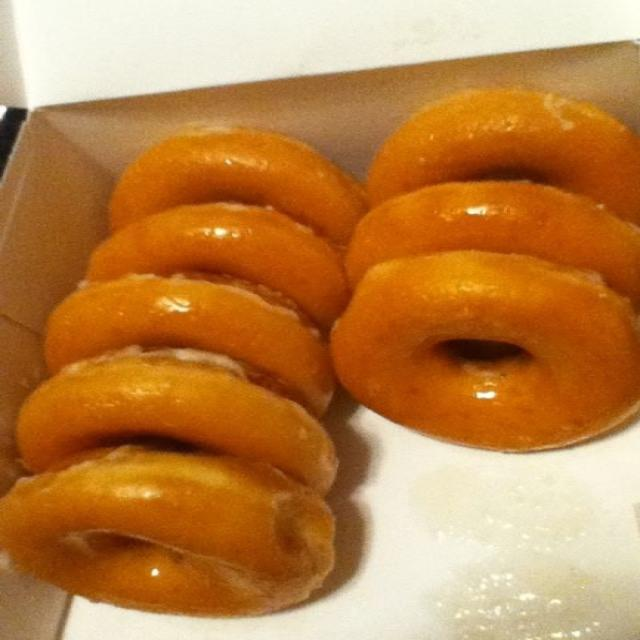炸货点心: (19, 90, 614, 597)
